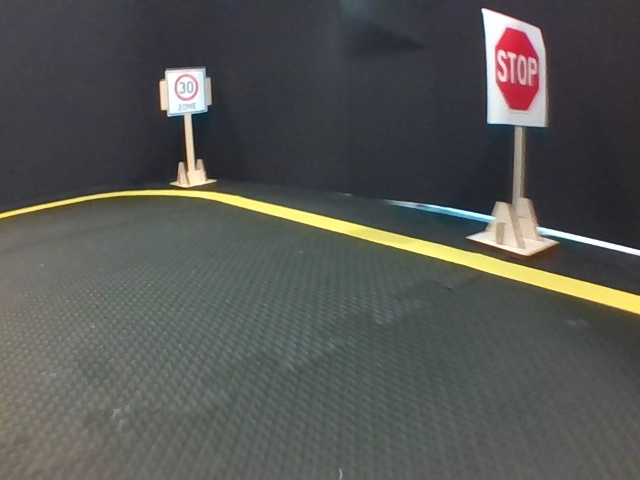30: (166, 69, 206, 114)
stop: (482, 8, 548, 124)
